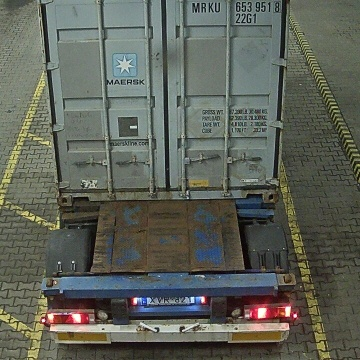serial_id: (192, 1, 280, 12)
